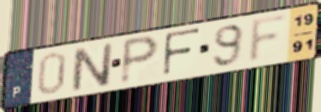0: (35, 50, 68, 97)
9: (211, 22, 246, 67)
F: (246, 11, 292, 67), (161, 26, 203, 79)
N: (71, 41, 114, 94)
P: (118, 34, 162, 88)
